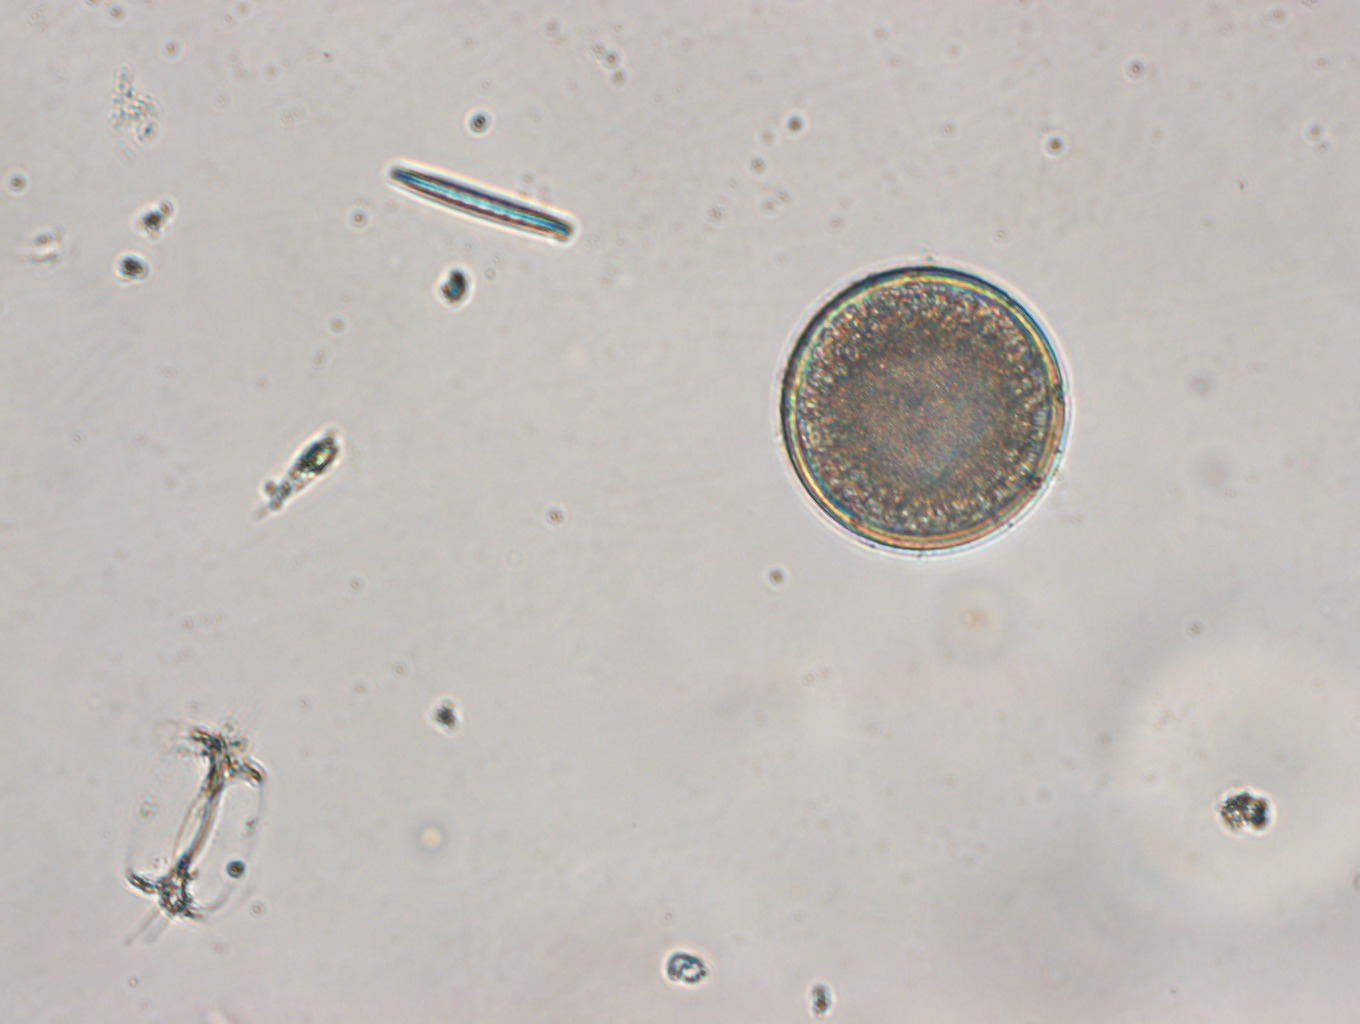chaetoceros: (119, 703, 269, 953)
coscinodiscus: (771, 260, 1077, 558)
thalassionema nitzschioides: (383, 156, 579, 247)
